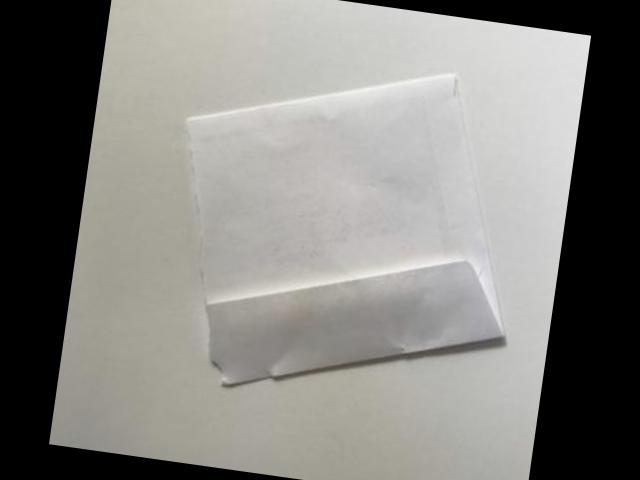cardboard paper: (189, 72, 507, 384)
